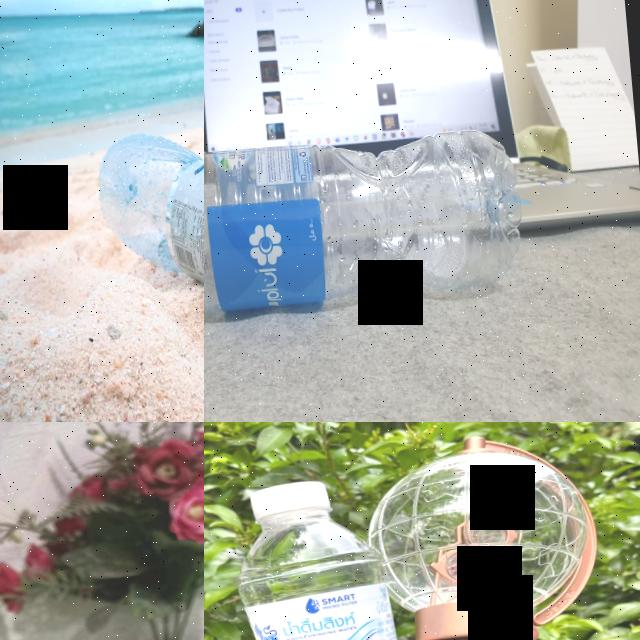bottle: (204, 120, 534, 333), (226, 460, 449, 640)
